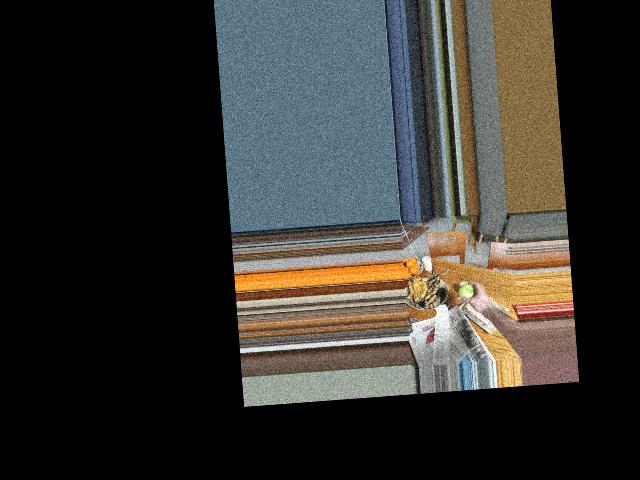apple: (456, 282, 481, 304)
